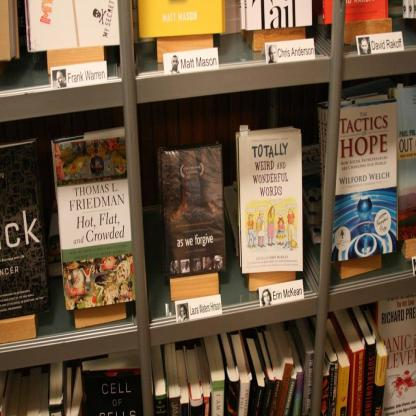book: (152, 317, 314, 415), (49, 146, 136, 320), (318, 94, 398, 262), (237, 127, 304, 275), (159, 143, 227, 284), (0, 349, 144, 415), (325, 303, 392, 416), (378, 296, 416, 416), (390, 85, 416, 243)
